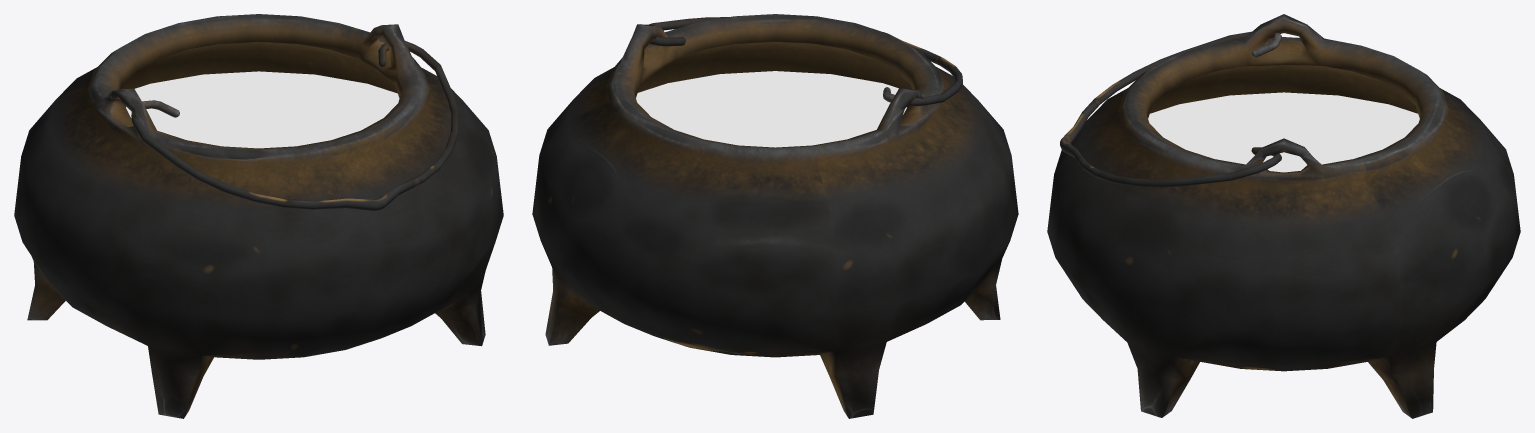
Rendered from Cauldron.fbx.
3 renders of one model, left to right at view 1: azimuth 30°, elevation 25°; view 2: azimuth 150°, elevation 25°; view 3: azimuth 270°, elevation 25°, orthographic. The views are drawn at different scales.
Visible parts, largest first — view 1: U_Cauldron, Soup, Cauldron; view 2: U_Cauldron, Soup, Cauldron; view 3: U_Cauldron, Soup, Cauldron.
Boxes of the visible parts, x1=… form: U_Cauldron: x1=14, y1=14, x2=503, y2=418; Soup: x1=126, y1=71, x2=399, y2=148; Cauldron: x1=131, y1=41, x2=459, y2=210; U_Cauldron: x1=532, y1=14, x2=1018, y2=418; Soup: x1=636, y1=71, x2=906, y2=147; Cauldron: x1=648, y1=17, x2=962, y2=105; U_Cauldron: x1=1047, y1=14, x2=1520, y2=418; Soup: x1=1148, y1=92, x2=1419, y2=172; Cauldron: x1=1060, y1=31, x2=1281, y2=187.
Size of the model in its own units: 129 by 78.39 by 129.
Materials: 2 (1 with a texture image).
